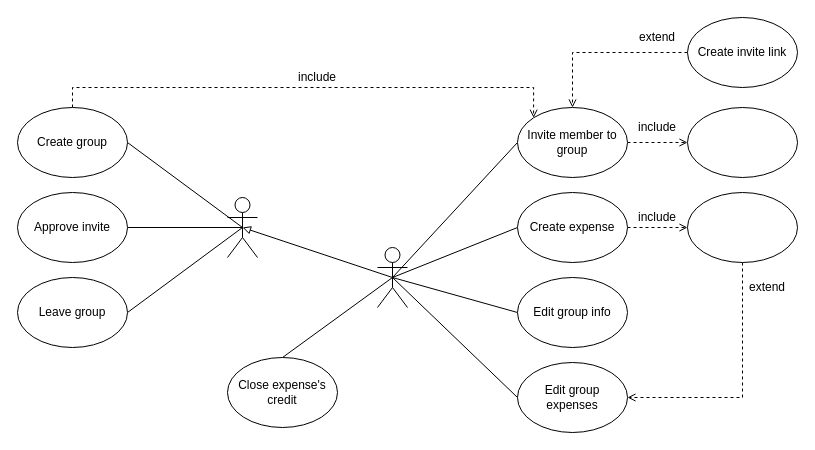
This 815x450 diagram has some shape labels left out. The centre of each missing label's shape, as x and y in pixels:
"GroupMember" goes at [392,277].
"Search users" goes at [742,142].
"Select split type" goes at [742,227].
"User" goes at [242,227].
